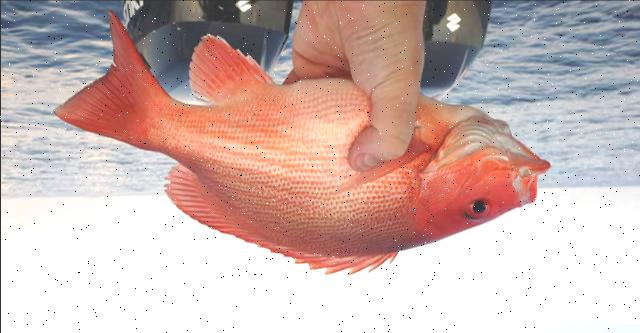Mulut: (505, 133, 565, 227)
Sirip Anal: (181, 22, 279, 114)
Sirip Dada: (316, 114, 440, 208)
Sirip Ekor: (46, 7, 172, 156)
Sirip Punggung: (157, 159, 401, 279)
